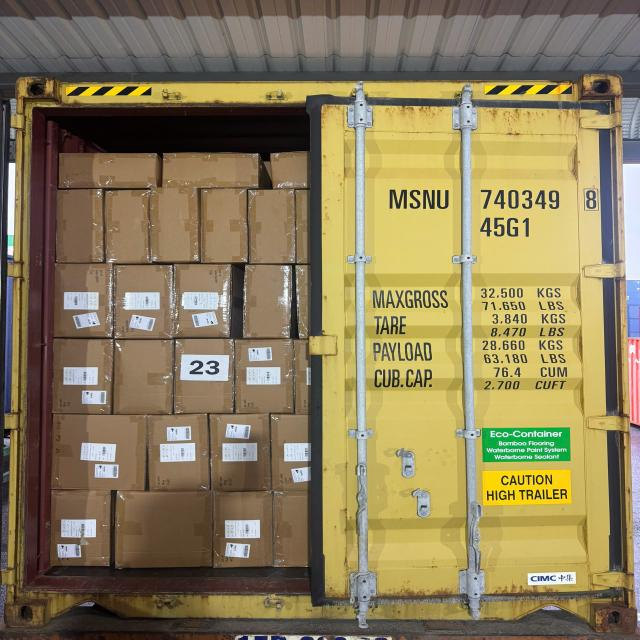Carton: (467, 136, 584, 279), (111, 492, 212, 572), (50, 413, 146, 492), (578, 277, 620, 422), (49, 490, 111, 570), (147, 413, 209, 492), (208, 416, 270, 494), (116, 339, 177, 417), (212, 492, 271, 572), (115, 266, 176, 343), (232, 340, 294, 415), (50, 338, 111, 414), (178, 338, 235, 417), (54, 264, 112, 340), (177, 264, 234, 340), (56, 149, 160, 190), (153, 186, 202, 262), (55, 187, 104, 262), (250, 187, 298, 263), (164, 151, 260, 189), (248, 265, 295, 341), (200, 187, 247, 262), (270, 416, 313, 497), (107, 188, 152, 262), (273, 490, 310, 567), (625, 421, 640, 586), (268, 151, 314, 191)
